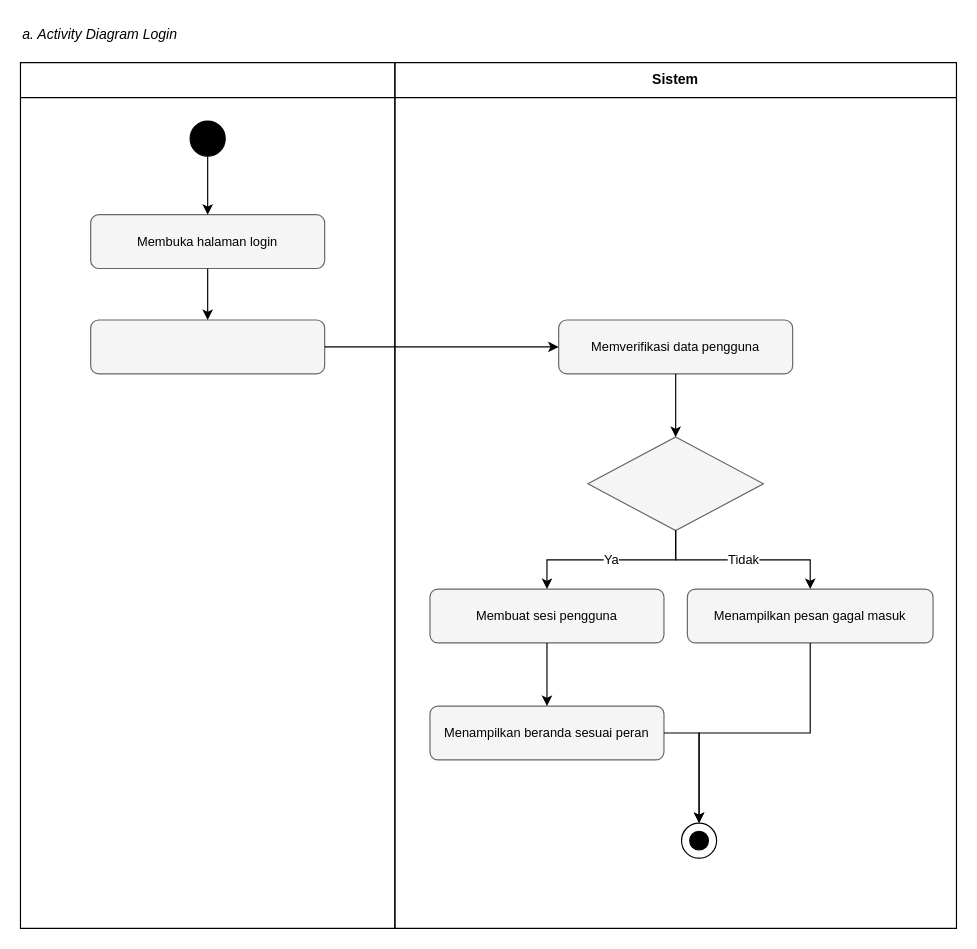
The diagram is 977 pixels wide and 949 high, and some of its shapes have lost their labels. Here are the shapes that lost their labels. From the top down, the box of each, then its label:
(90, 319, 325, 374): Memasukkan email & kata sandi
(19, 61, 395, 928): User (Admin, Guru, Siswa)
(587, 436, 763, 531): Data valid?
